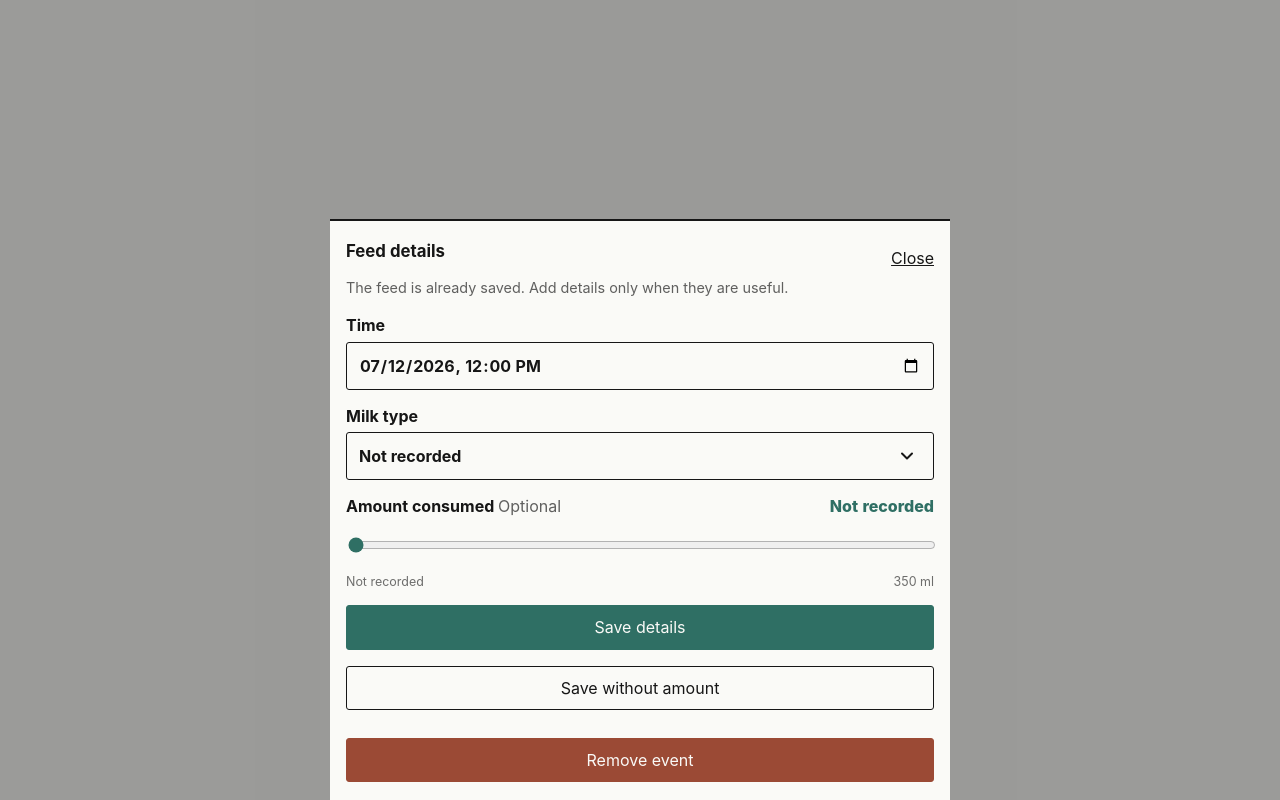
Test: event amount sliders › shows an optional 0 to 350 ml feed slider with one-milliliter steps
Expected: the text "Not recorded" in the row of "Optional" is shown, [830,496,934,516]
Step 1. Set the slider with id "feed-amount" to "125" → [560, 545], box [348,521,936,569]
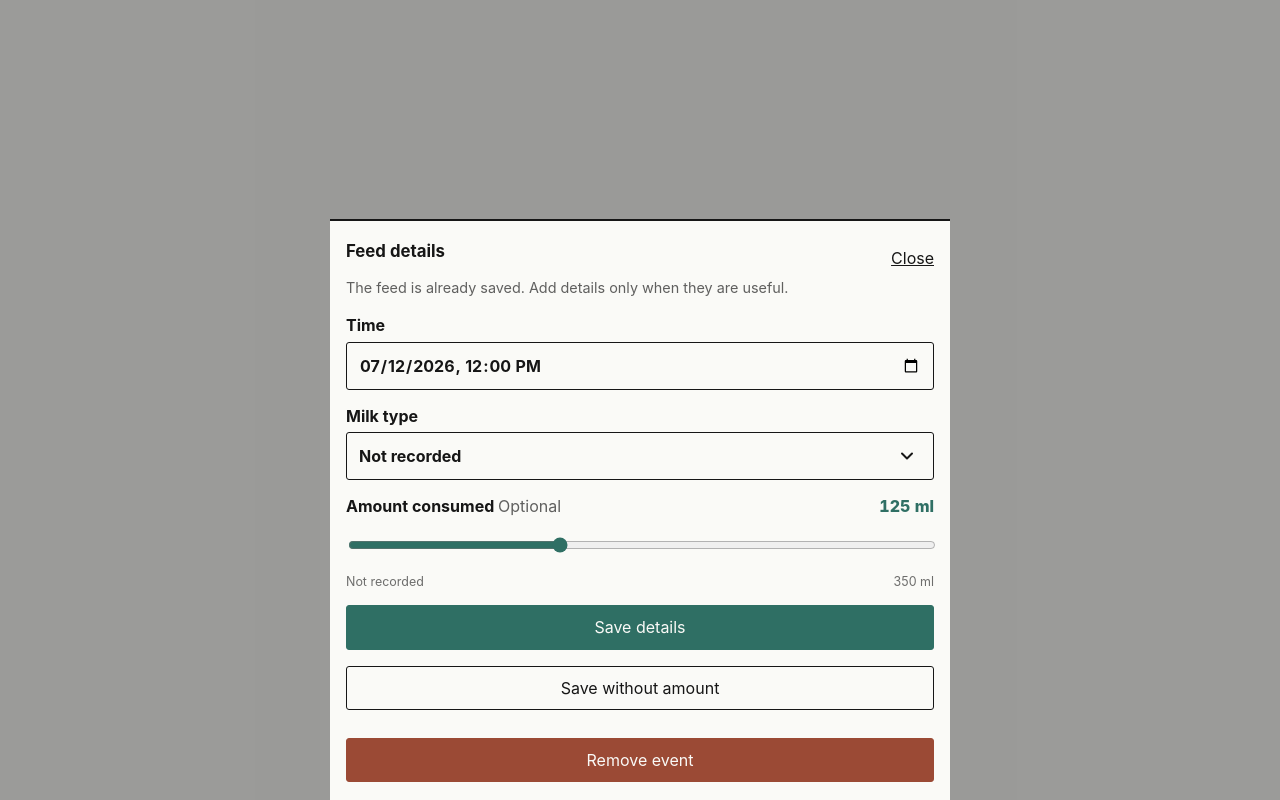
Expected: the text "125 ml" is shown, [879,496,934,516]
